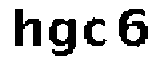6: (118, 5, 154, 54)
c: (81, 16, 109, 48)
g: (46, 15, 79, 60)
h: (12, 6, 44, 48)
